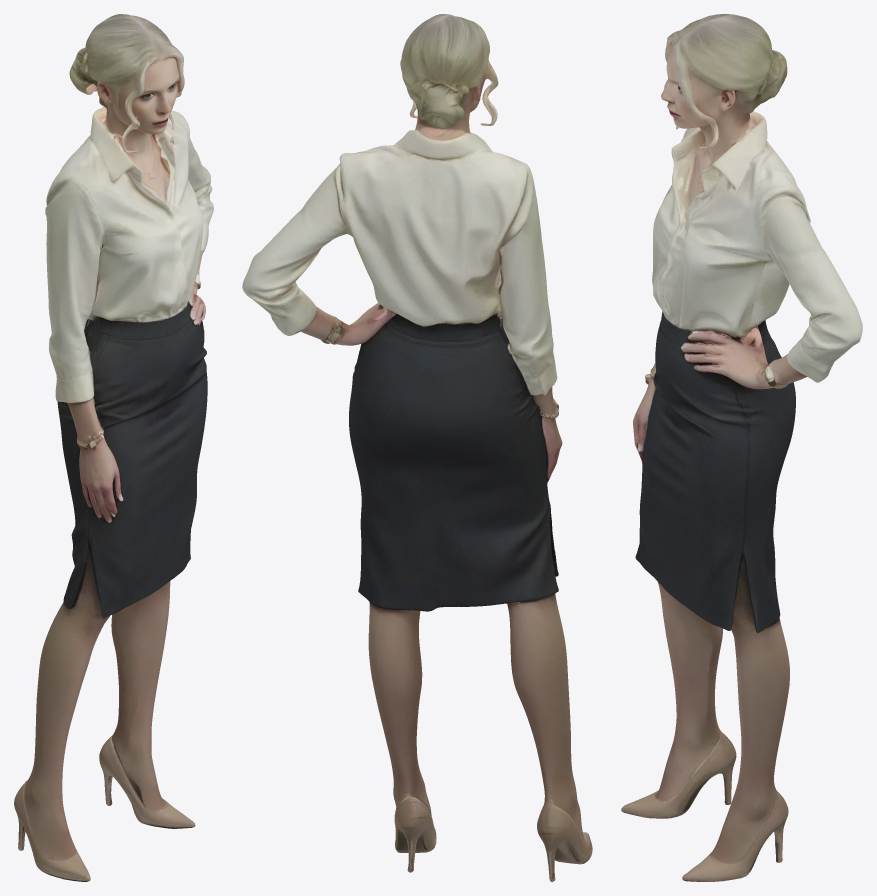
File: ivory_steele__corporate_precision.glb
3 views of the same model, side by side, from view 1: azimuth 30°, elevation 25°; view 2: azimuth 150°, elevation 25°; view 3: azimuth 270°, elevation 25° (orthographic). The views are drawn at different scales.
Parts seen in each view (by area): view 1: Object_4, Object_5; view 2: Object_4, Object_5; view 3: Object_4, Object_5.
Part boxes in pixels (x1,y1,x2,y2): Object_4: (14, 14, 207, 881); Object_5: (14, 19, 213, 850); Object_4: (302, 14, 592, 864); Object_5: (242, 15, 579, 881); Object_4: (621, 14, 810, 881); Object_5: (684, 14, 862, 881).
Bounding box in the file's own units: 0.6184 × 1.9 × 0.4929.
1 material, 1 textured.
